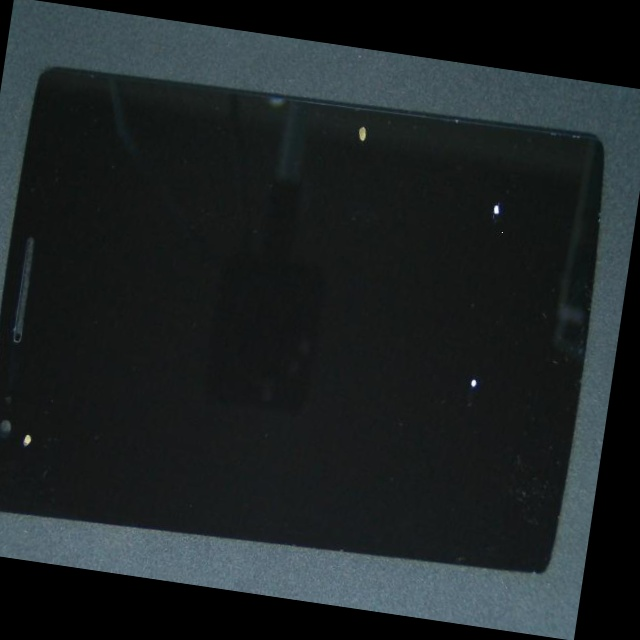stain: (155, 203, 629, 578), (260, 87, 640, 272), (0, 237, 78, 561)
